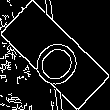O_NE: (22, 22, 88, 88)
